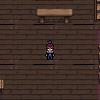Obstacle: (34, 5, 74, 24)
Victim: (43, 39, 57, 61)
